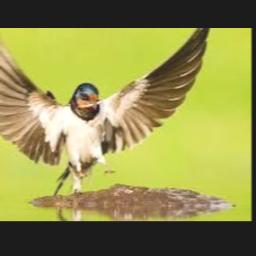Swallow: (0, 28, 211, 195)
